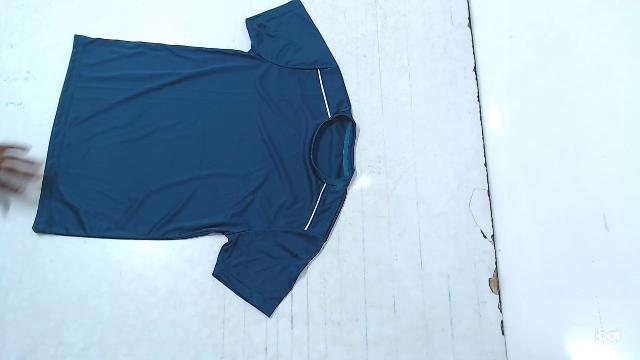new-garment: (32, 0, 356, 316)
